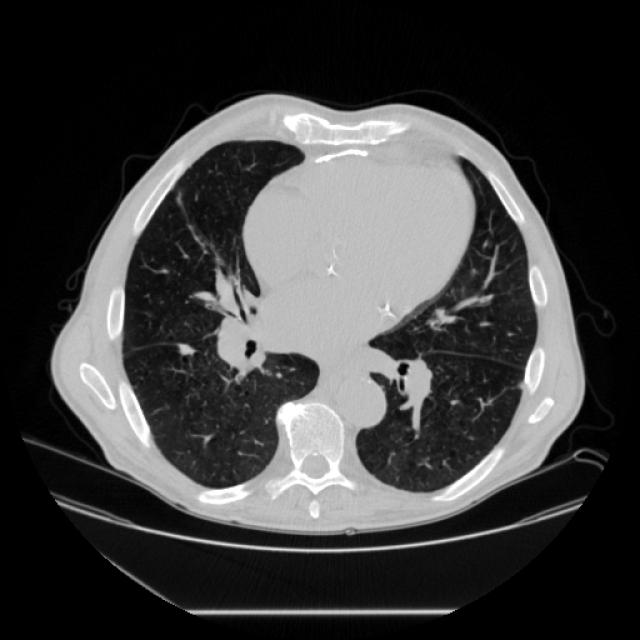nodule: (171, 334, 199, 361)
